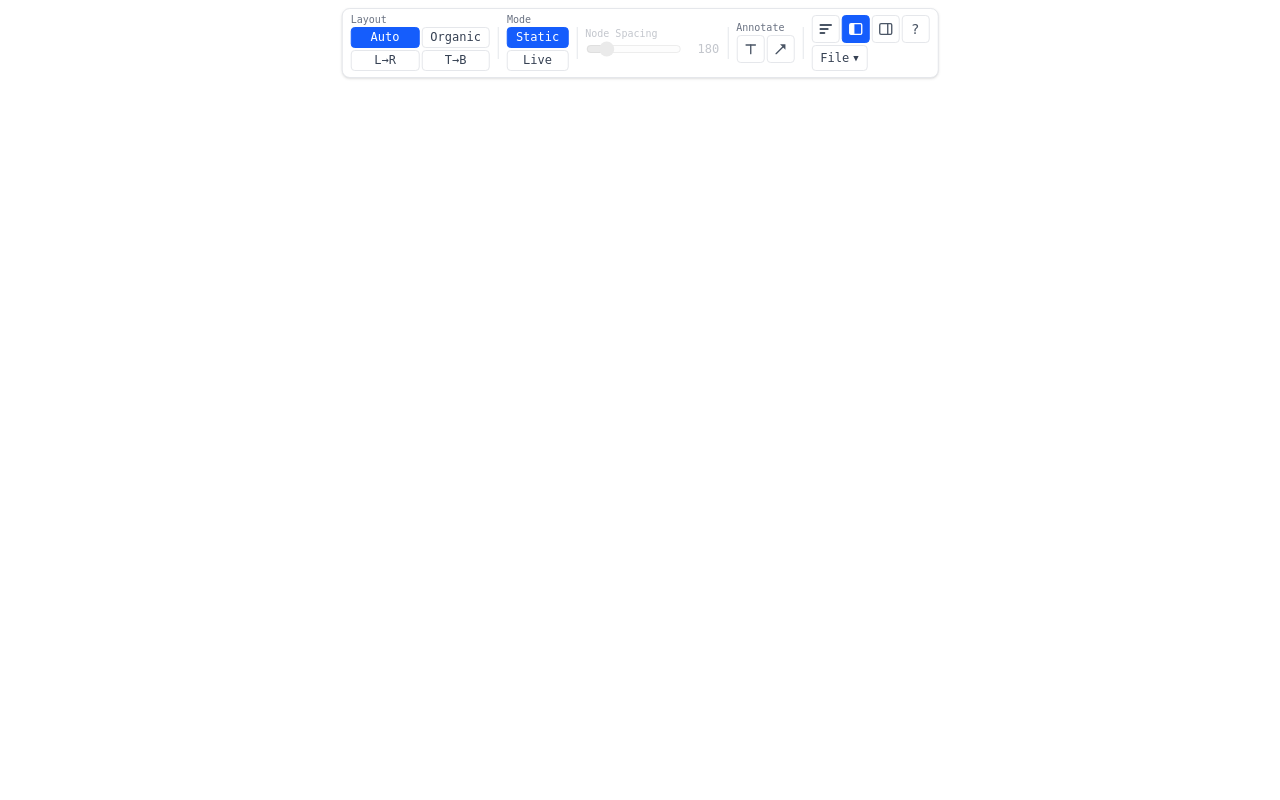
Test: Toolbar sort all: confirmation when a custom order exists › asks first, naming the tables whose order would be replaced, and changes nothing yet
What coordinates should you click on to do the following:
click the button named "Sort all tables by type"
I would click on:
 (825, 29)
Its box is x1=811 y1=15 x2=839 y2=43.
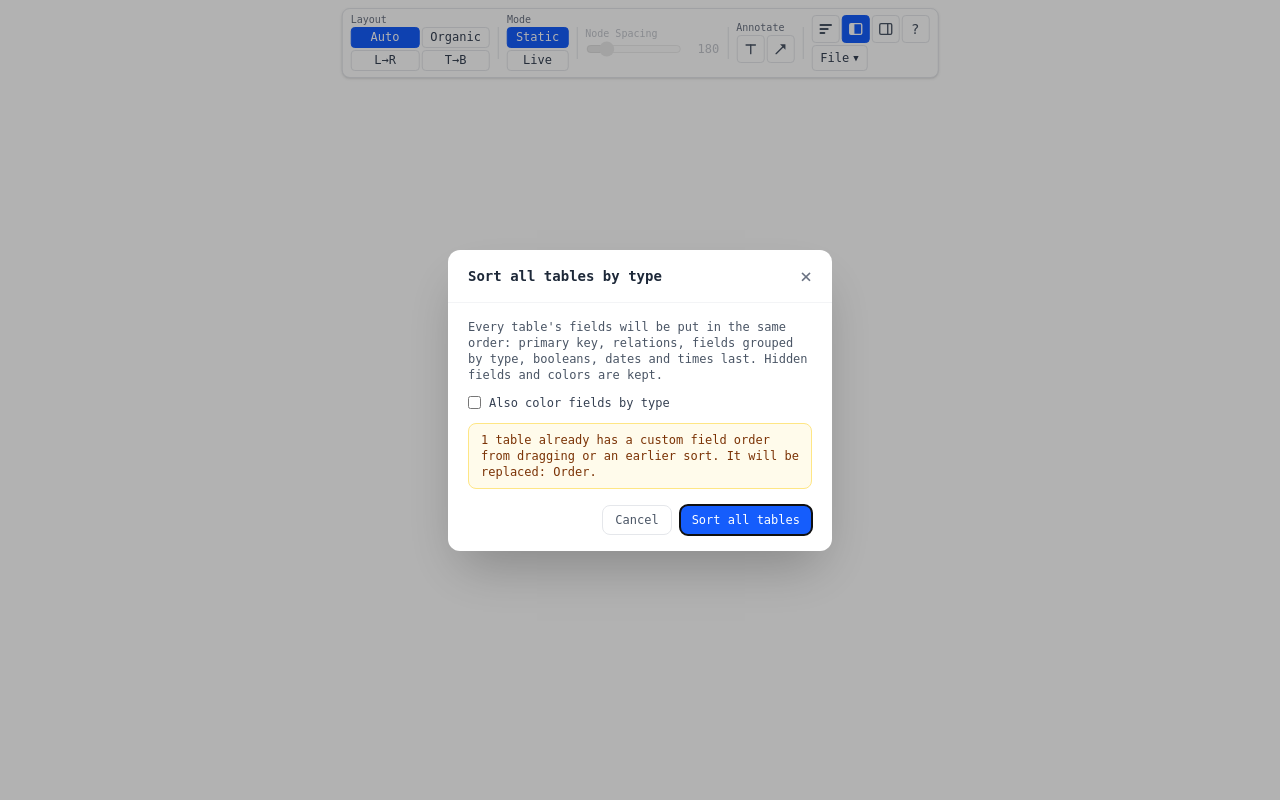
Now the dialog "Sort all tables by type" shows "1 table already has a custom field order", box x1=481 y1=432 x2=770 y2=446
Now the dialog "Sort all tables by type" shows "order", box x1=553 y1=464 x2=589 y2=478
